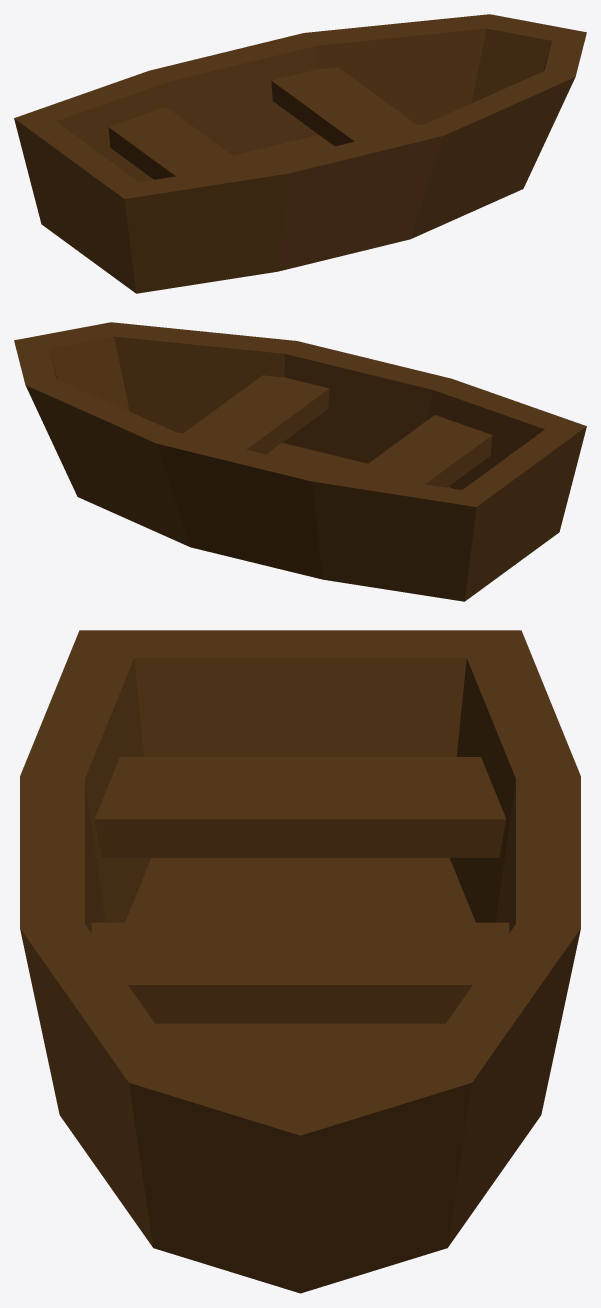
The model's file is ForestBoat.fbx.
3 renders of one model, top to bottom at view 1: azimuth 30°, elevation 25°; view 2: azimuth 150°, elevation 25°; view 3: azimuth 270°, elevation 25°, orthographic. The views are drawn at different scales.
Visible parts, largest first — view 1: ForestBoat; view 2: ForestBoat; view 3: ForestBoat.
Part boxes in pixels (x1,y1,x2,y2): ForestBoat: [14, 14, 586, 293]; ForestBoat: [14, 322, 586, 601]; ForestBoat: [20, 630, 580, 1293].
Bounding box in the file's own units: 56.13 × 10.9 × 26.35.
